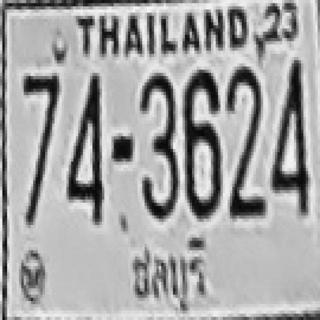N02: (224, 65, 262, 198)
N03: (140, 70, 178, 219)
N04: (270, 59, 308, 214), (65, 70, 103, 222), (270, 58, 308, 179)
N06: (182, 68, 220, 217)
N07: (21, 73, 59, 216), (21, 73, 59, 187), (21, 74, 59, 176), (21, 74, 59, 163)
P13: (123, 232, 206, 318)
